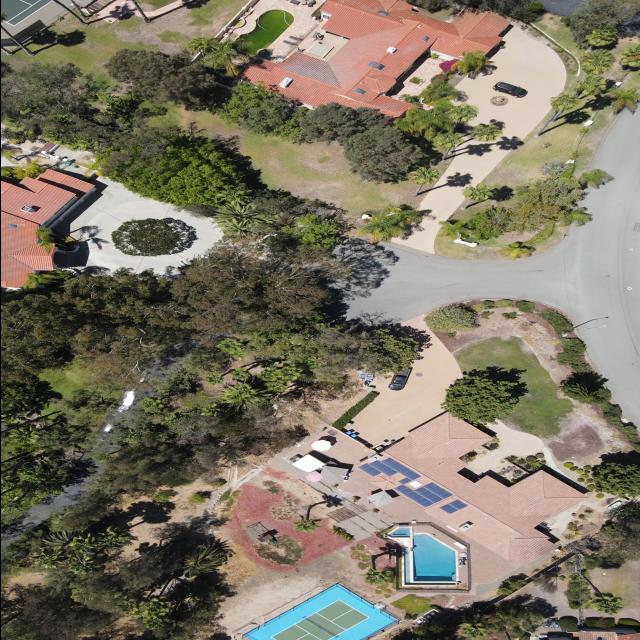solar-panels: (393, 466, 452, 517), (355, 450, 423, 488), (438, 496, 468, 517)
